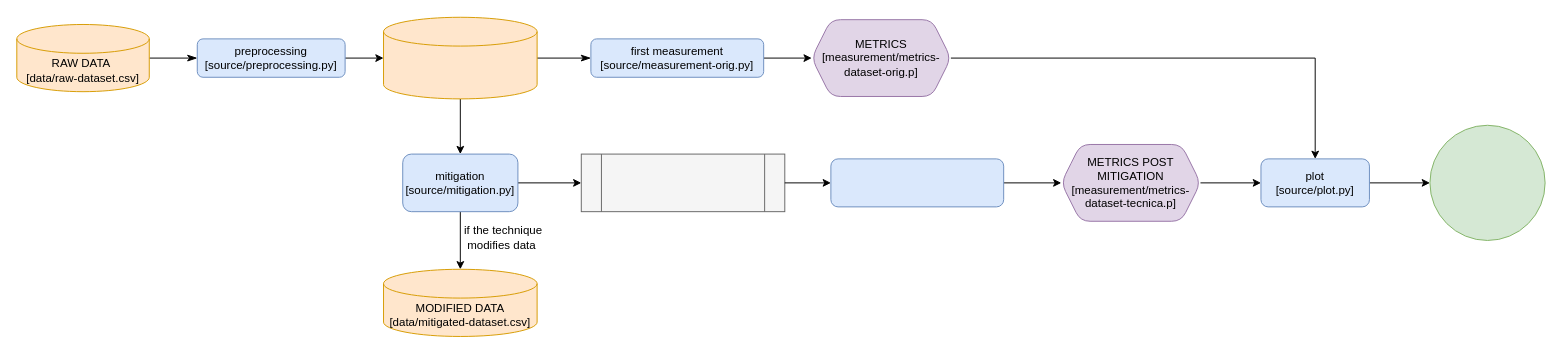
This 1562x353 diagram has some shape labels left out. The shapes that lost their labels are listed below. From the top down, each one's centre as x and y in pixels, then its label:
At pixel 460 57: "PREPROCESSED DATA [data/preprocessed-dataset.csv]".
At pixel 682 182: "predictions_and_test [data/predictions_and_tests/ pred_test_dataset_tecnica.p]".
At pixel 917 182: "measurement post mitigation [source/measurement-post-mitigation.py]".
At pixel 1487 182: "graphs_and_plots".
